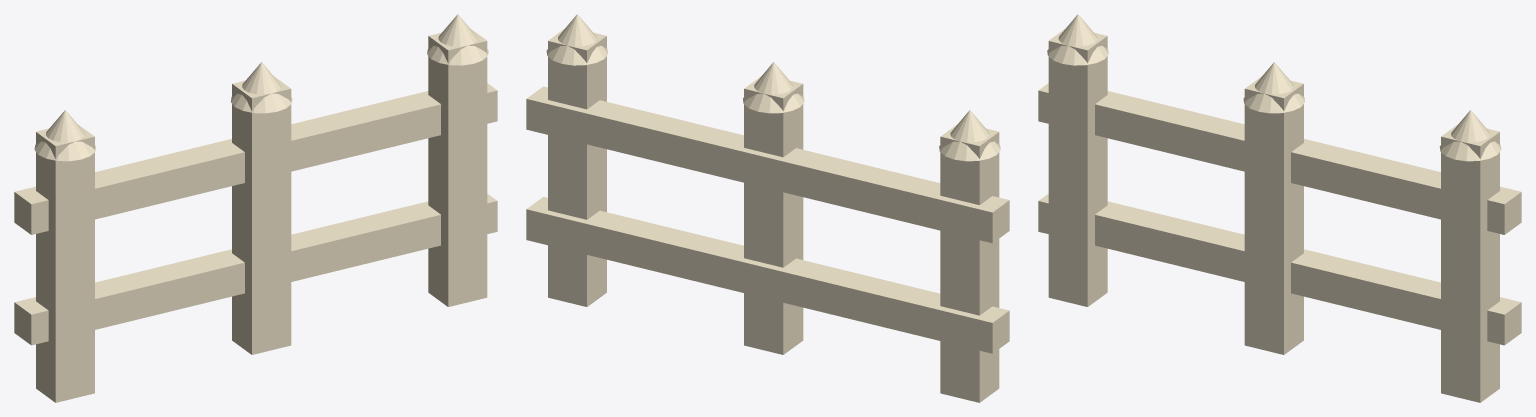
Rendered from fence.glb.
3 views of the same model, side by side, from view 1: azimuth 30°, elevation 25°; view 2: azimuth 150°, elevation 25°; view 3: azimuth 330°, elevation 25° (orthographic).
Parts seen in each view (by area): view 1: Rail.001, Rail, Picket.001, Picket.002, Picket, Picket cap.001, Picket cap, Picket cap.002; view 2: Rail, Rail.001, Picket, Picket.001, Picket.002, Picket cap.001, Picket cap, Picket cap.002; view 3: Rail.001, Rail, Picket.001, Picket, Picket.002, Picket cap.001, Picket cap, Picket cap.002.
Part boxes in pixels (box(x1,y1,x2,y2)): Rail.001: box(14, 83, 497, 234); Rail: box(14, 193, 497, 345); Picket.001: box(232, 76, 291, 354); Picket.002: box(428, 28, 487, 306); Picket: box(36, 124, 94, 402); Picket cap.001: box(231, 62, 292, 113); Picket cap: box(34, 110, 96, 161); Picket cap.002: box(427, 14, 488, 65); Rail: box(526, 197, 1009, 353); Rail.001: box(526, 86, 1009, 243); Picket: box(940, 124, 999, 402); Picket.001: box(744, 76, 803, 354); Picket.002: box(548, 28, 606, 306); Picket cap.001: box(743, 62, 804, 113); Picket cap: box(939, 110, 1000, 161); Picket cap.002: box(546, 14, 607, 65); Rail.001: box(1038, 83, 1521, 234); Rail: box(1038, 193, 1521, 345); Picket.001: box(1244, 76, 1303, 354); Picket: box(1048, 28, 1107, 306); Picket.002: box(1441, 124, 1499, 402); Picket cap.001: box(1243, 62, 1304, 113); Picket cap: box(1047, 14, 1108, 65); Picket cap.002: box(1439, 110, 1501, 161).
Bounding box in the file's own units: 1.9 × 1.09 × 0.22.
